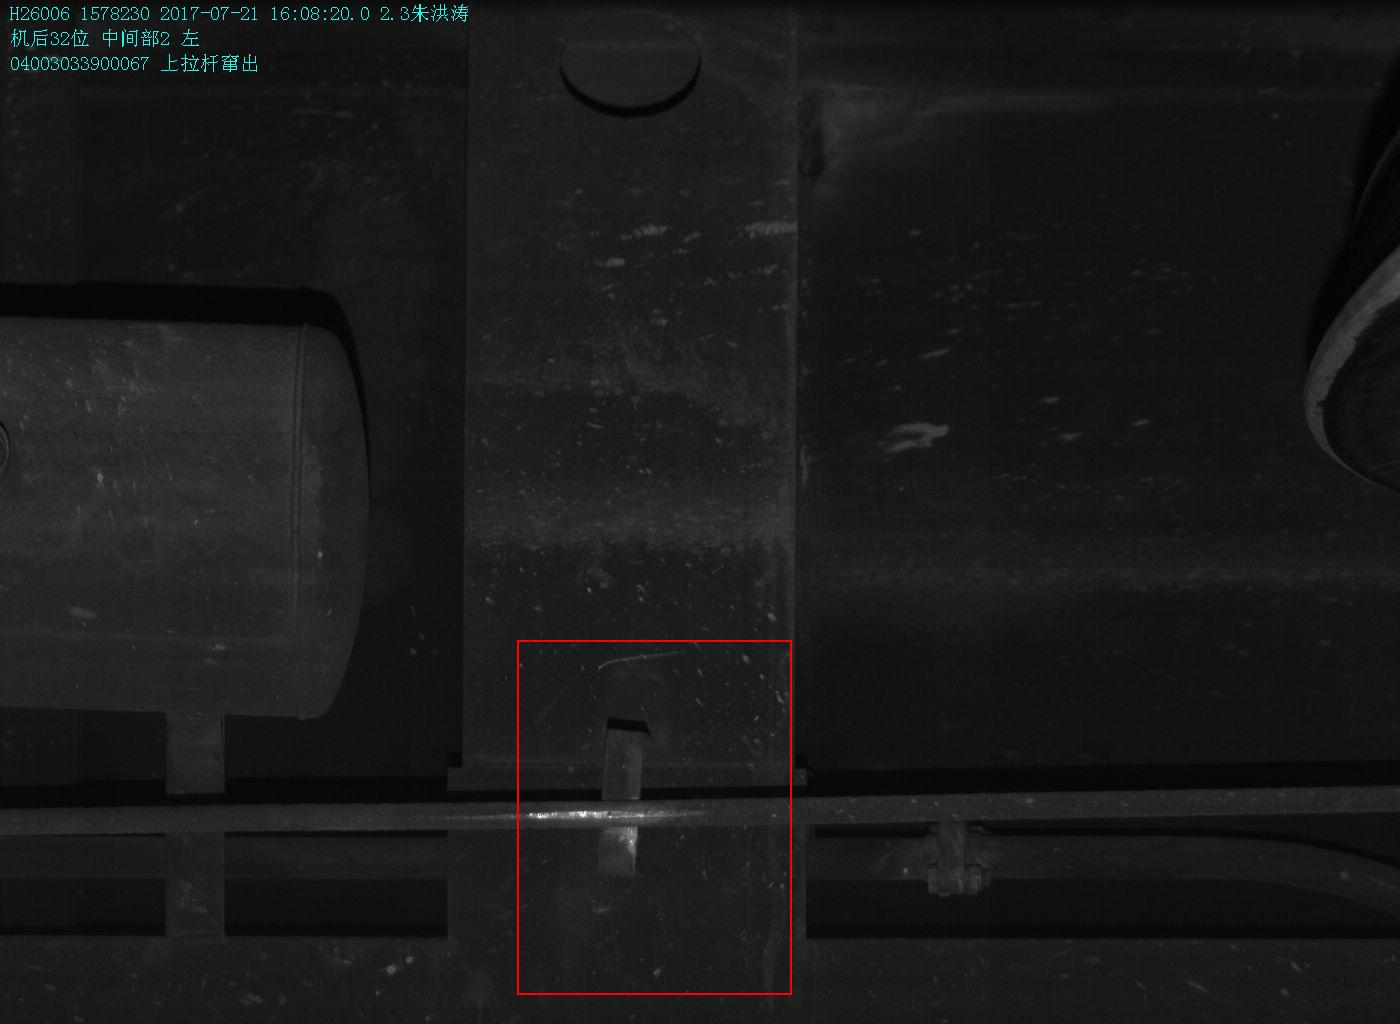Upper lever: (596, 719, 651, 877)
